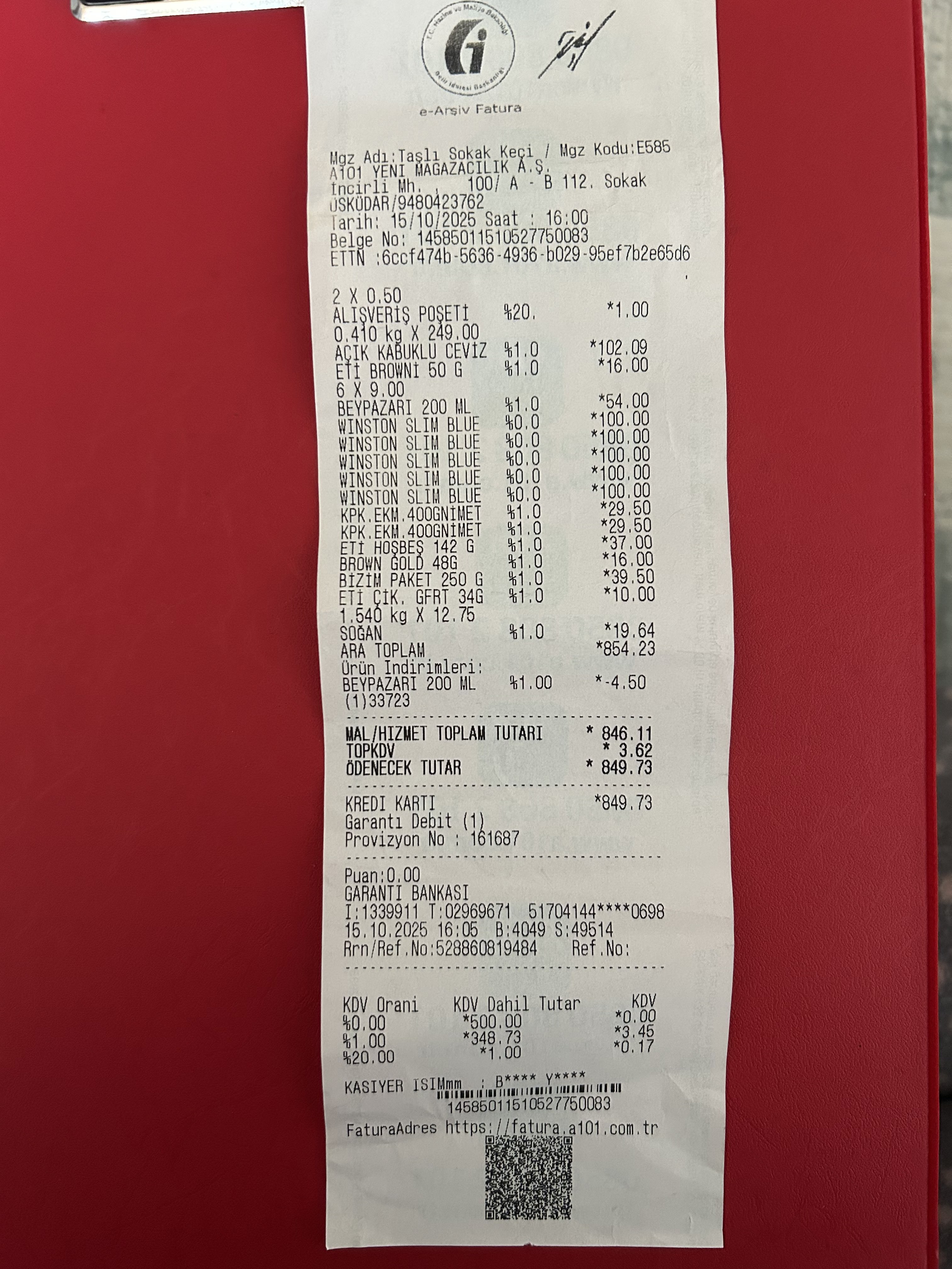date: (597, 756, 660, 781)
price: (388, 212, 479, 228)
workplace: (321, 136, 679, 195)
